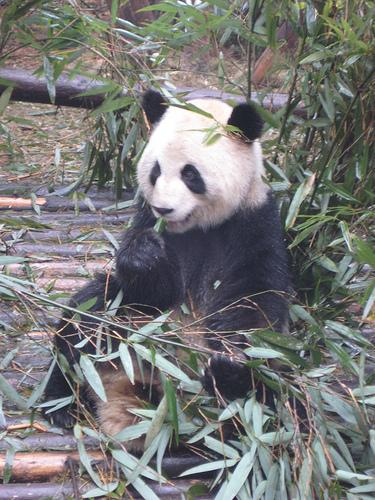panda: (69, 90, 292, 400), (95, 363, 140, 435)
